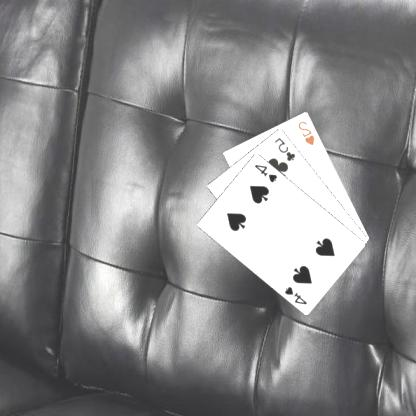2H: (297, 118, 318, 146)
4S: (253, 161, 281, 184), (283, 283, 310, 306)
5C: (273, 134, 299, 162)
